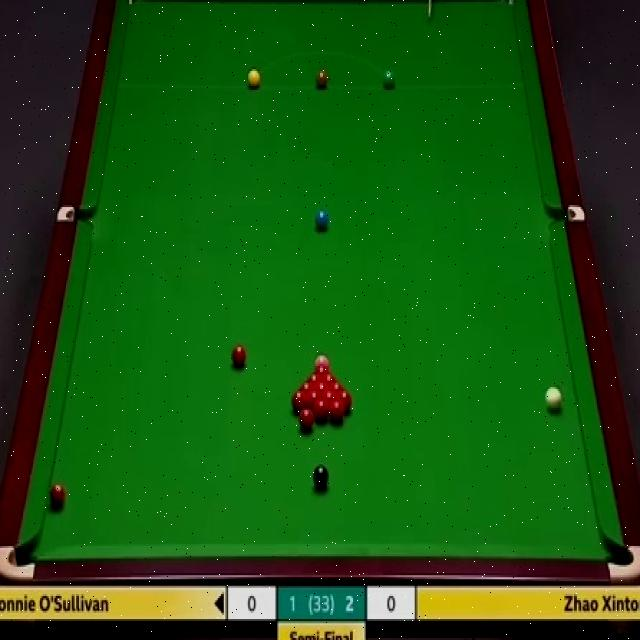black-ball: (313, 464, 329, 491)
blue-ball: (314, 209, 328, 228)
brown-ball: (314, 72, 328, 88)
green-ball: (382, 67, 397, 92)
pink-ball: (314, 355, 331, 372)
red-ball: (49, 485, 66, 512), (329, 398, 345, 426), (292, 389, 308, 414), (314, 398, 330, 421), (298, 406, 314, 428), (336, 390, 353, 410), (233, 344, 246, 370), (321, 391, 338, 410), (328, 380, 345, 395), (308, 392, 320, 412), (299, 380, 316, 394), (315, 380, 329, 396), (307, 372, 323, 385), (322, 371, 335, 386)
white-ball: (546, 385, 563, 411)
yellow-ball: (246, 68, 262, 90)
